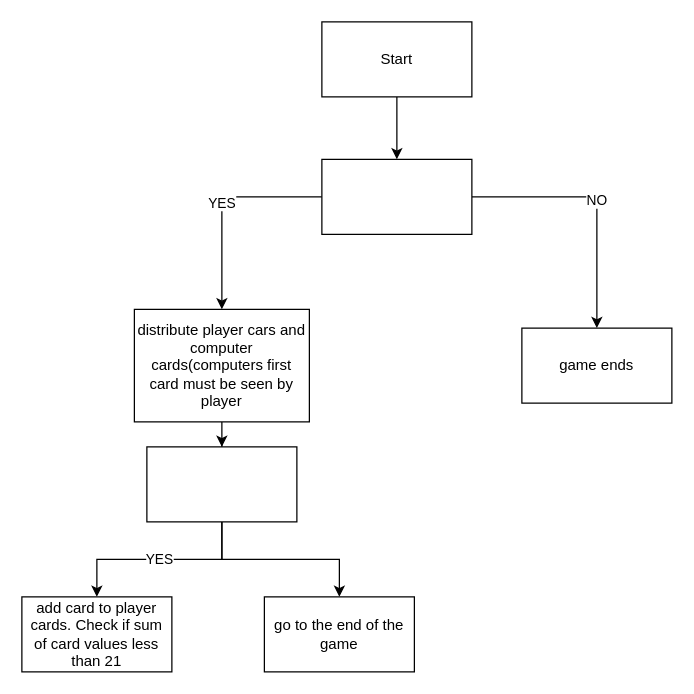
This 694x694 diagram has some shape labels left out. The shapes that lost their labels are listed below. From the top down, each one's box as (x1, y1, x2, y2) in pixels, then its label:
(321, 158, 472, 234): ask player if he/she wants to play
(146, 446, 297, 522): ask player to get another card
